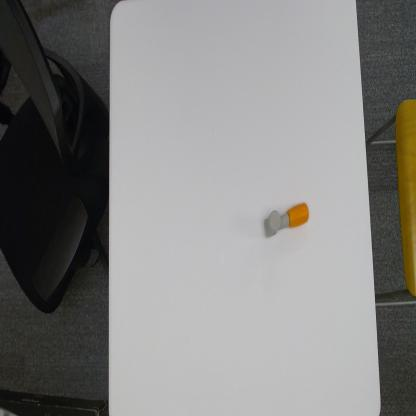Hammer: (264, 204, 310, 238)
